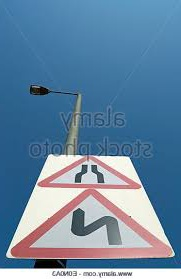Double_bend_left: (9, 188, 174, 259)
